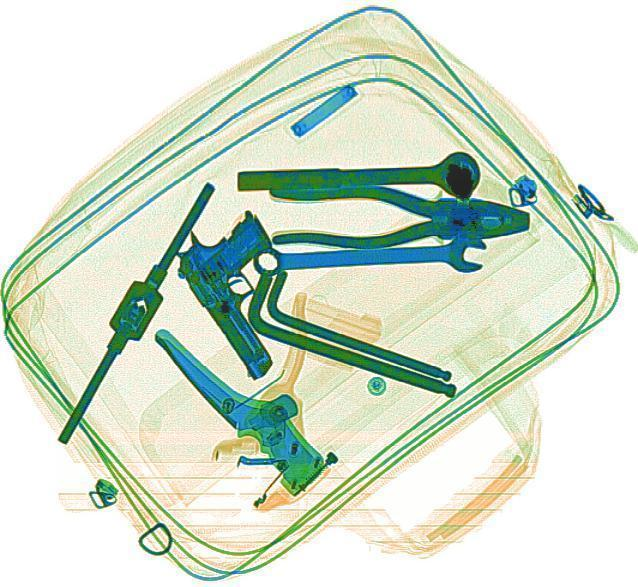Gun: (158, 202, 339, 380)
Pliers: (263, 178, 531, 253)
Wrench: (250, 229, 487, 281)
